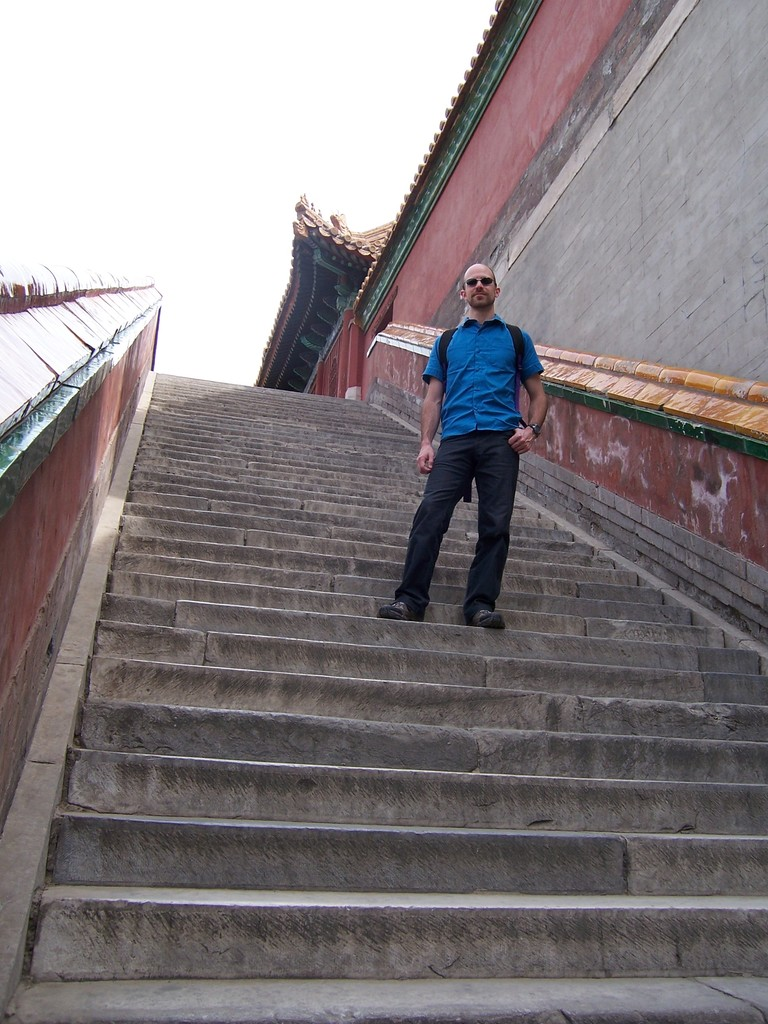person: (375, 261, 549, 629)
